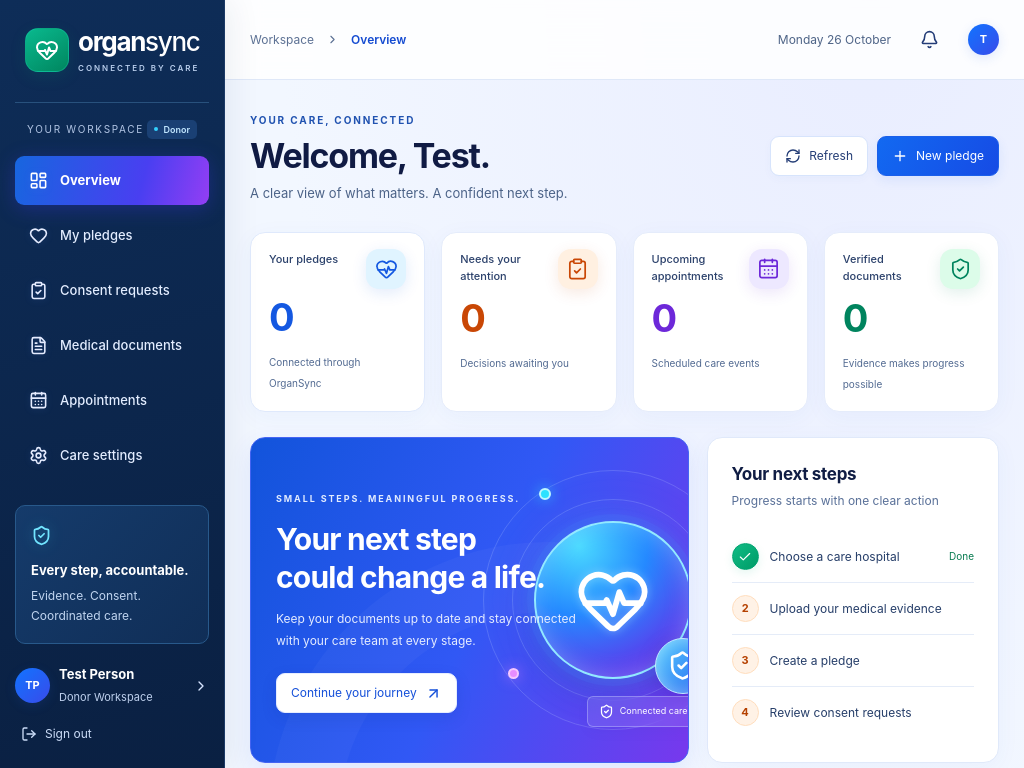
Test: failed saves stay in the dialog and show server feedback
Click the button "New pledge".
click(938, 156)  # box [877,136,999,176]
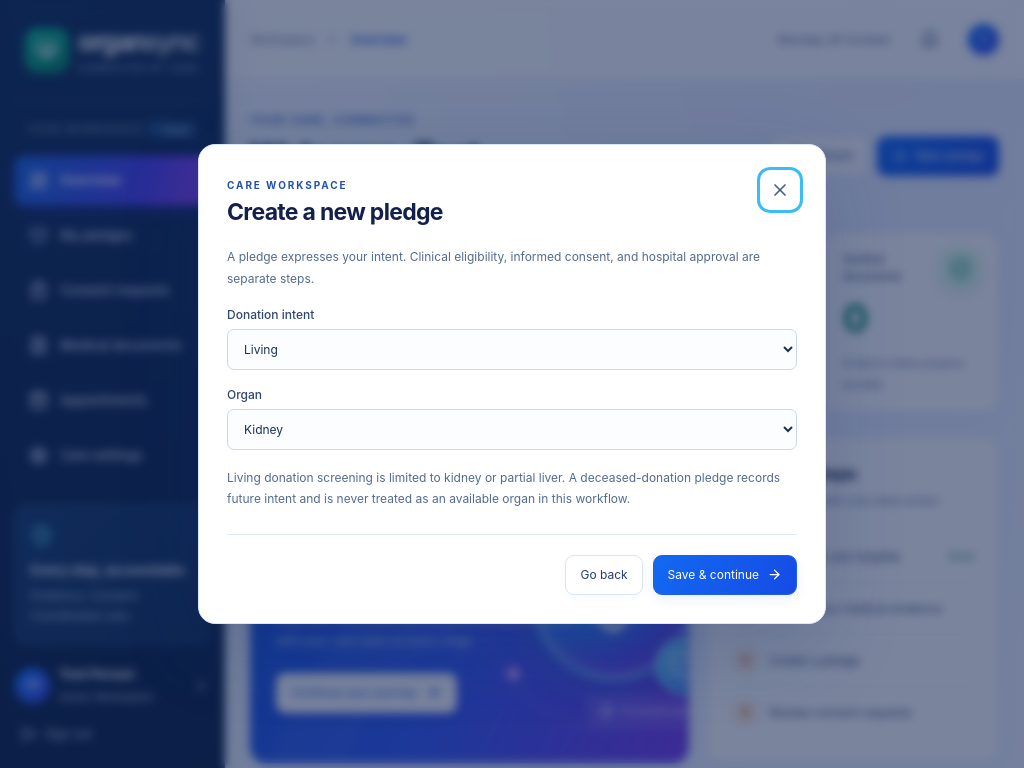
Click the button "Save & continue".
click(725, 575)  # box [653,555,797,595]
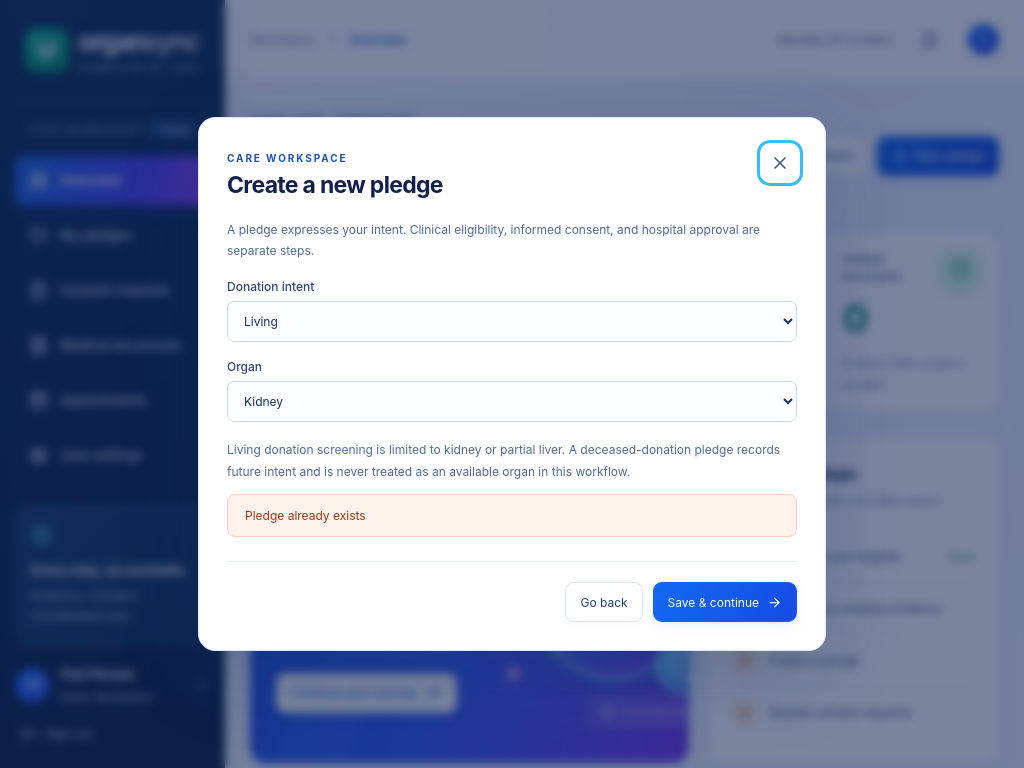
Expected: the dialog is shown, [198,117,826,651]
Expected: the message reads "Pledge already exists", [245,508,366,523]
